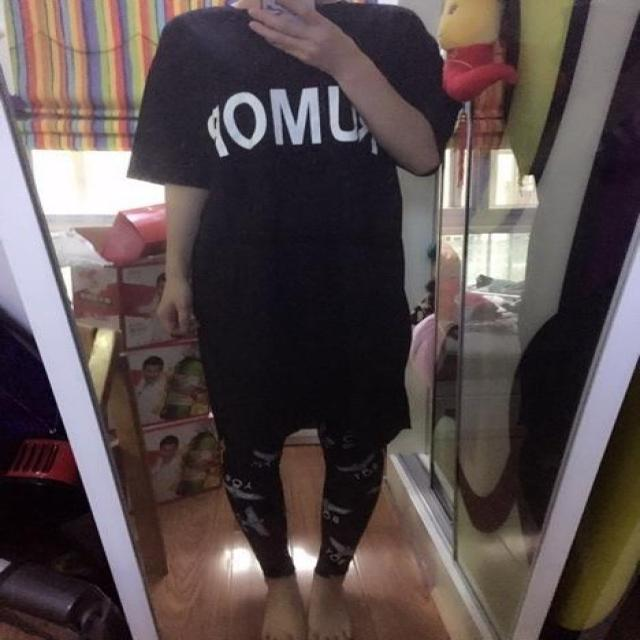short-sleeve-dress: (71, 13, 508, 439)
